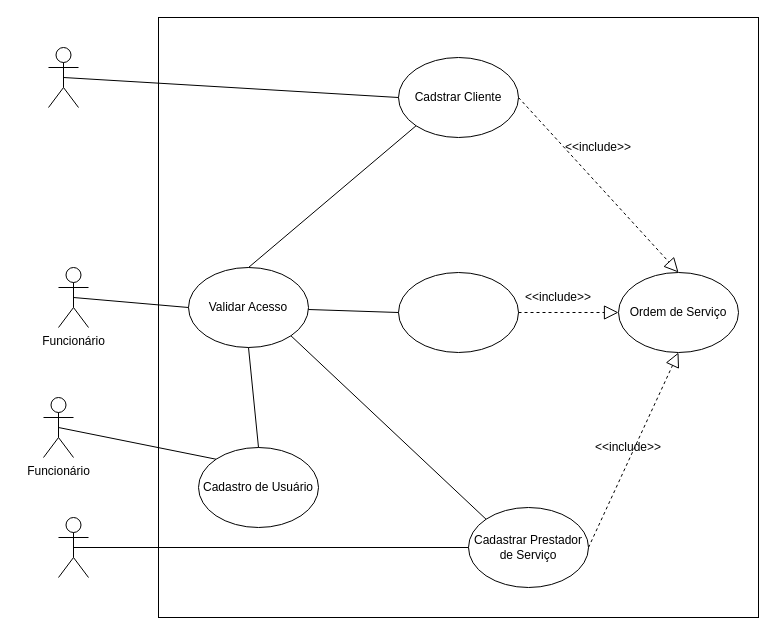
Image size: 776x635. Some labels were removed from this diagram. The centre of each missing label's shape, as x and y in pixels:
"Cadastrar Serviços" belongs at point (458, 312).
"Cliente" belongs at point (63, 77).
"Prestador de Serviço" belongs at point (73, 547).
